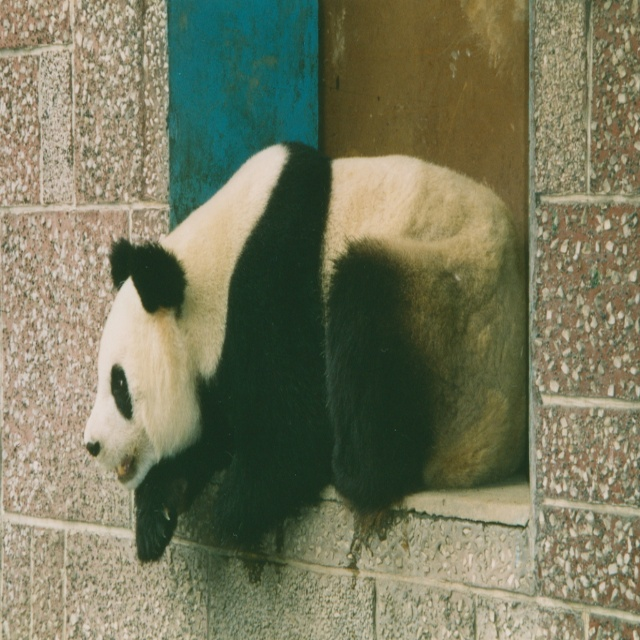Panda: (84, 139, 528, 564)
